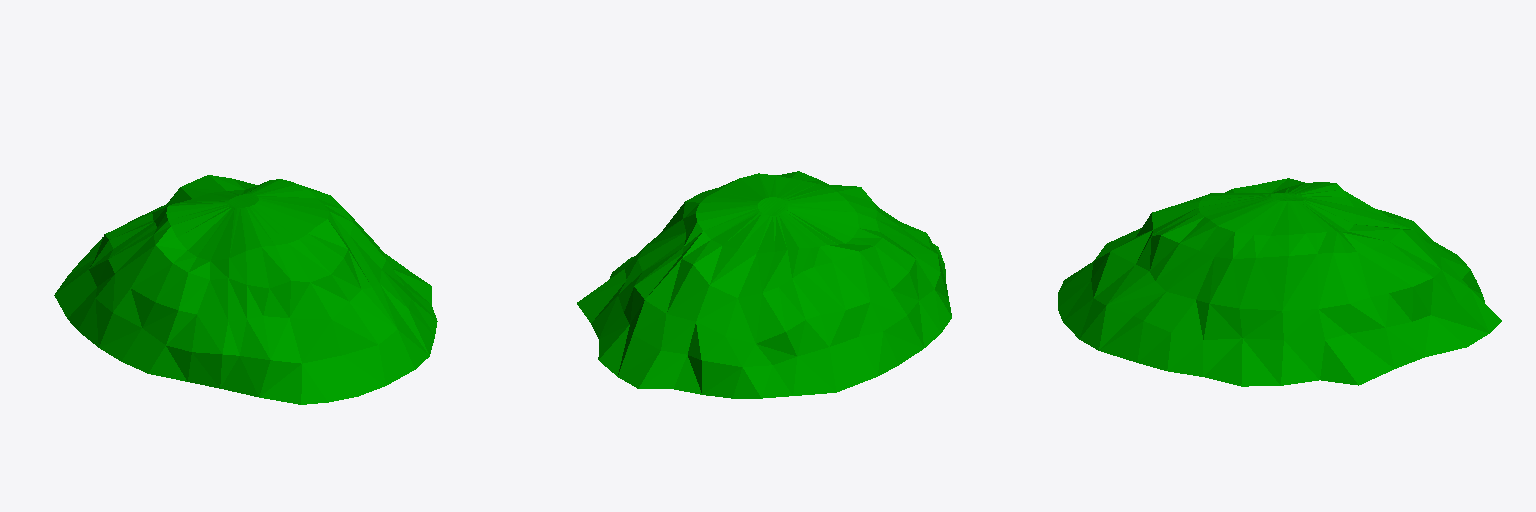
Rendered from yama.obj.
The picture shows the model from 3 angles: view 1: azimuth 30°, elevation 25°; view 2: azimuth 150°, elevation 25°; view 3: azimuth 270°, elevation 25°; orthographic projection.
Parts seen in each view (by area): view 1: 円柱; view 2: 円柱; view 3: 円柱.
Boxes of the visible parts, <box> form: 円柱: <box>54,175,437,404</box>; 円柱: <box>577,171,951,398</box>; 円柱: <box>1058,178,1501,386</box>.
Bounding box in the file's own units: 5.83 × 2.03 × 7.17.